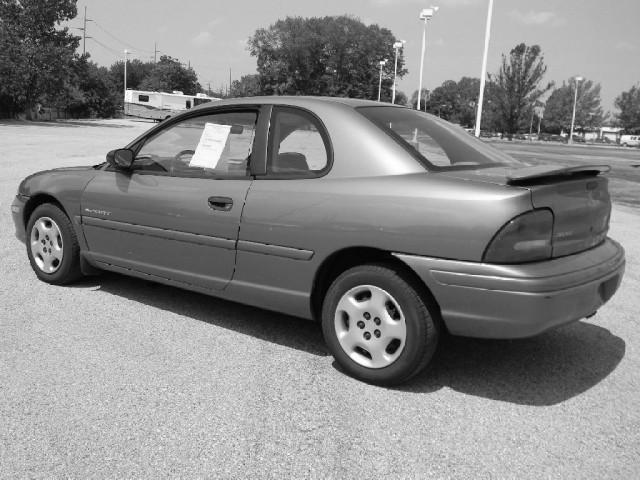car: (11, 96, 625, 387)
